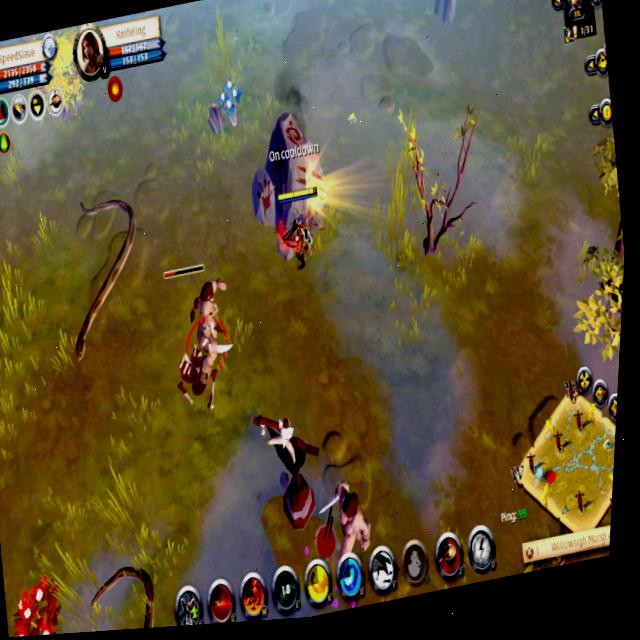hide: (213, 73, 249, 131)
ore: (43, 174, 162, 380), (155, 253, 246, 393), (305, 464, 384, 574), (79, 551, 166, 633)
red: (270, 182, 331, 271)
